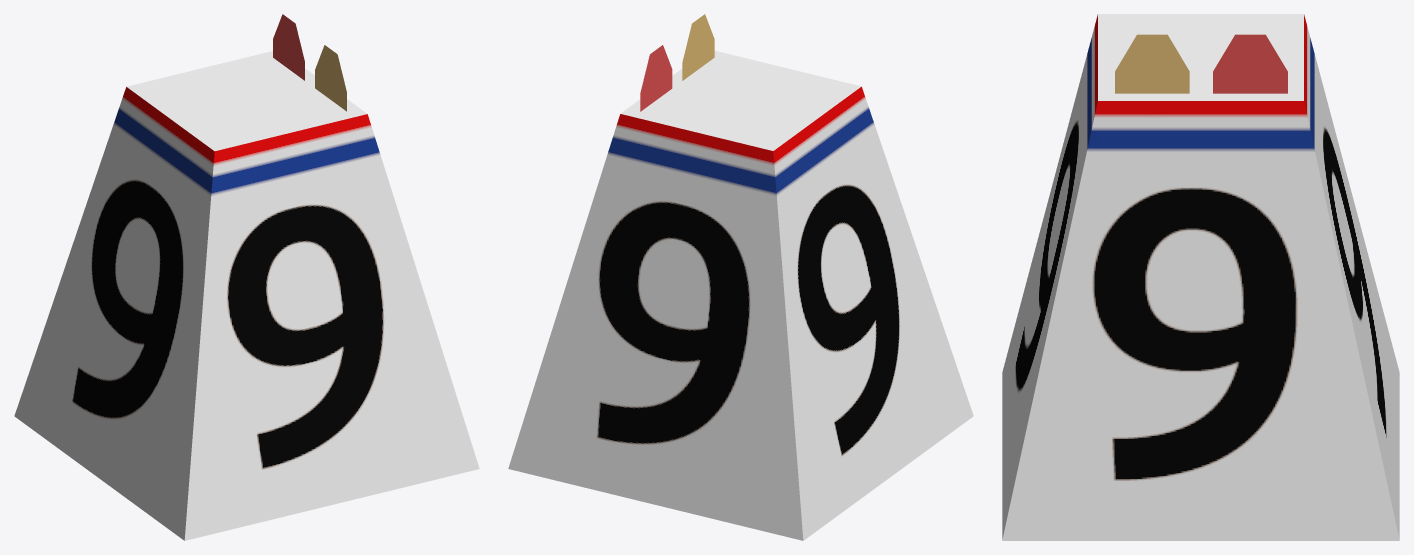
The model's file is Marker_Line9.FBX.
3 views of the same model, side by side, from view 1: azimuth 30°, elevation 25°; view 2: azimuth 150°, elevation 25°; view 3: azimuth 270°, elevation 25° (orthographic). The views are drawn at different scales.
Parts seen in each view (by area): view 1: Marker_Line9; view 2: Marker_Line9; view 3: Marker_Line9.
Part boxes in pixels (x1=…): Marker_Line9: x1=14, y1=14, x2=479, y2=540; Marker_Line9: x1=508, y1=14, x2=973, y2=540; Marker_Line9: x1=1002, y1=14, x2=1399, y2=540.
Size of the model in its own units: 6.76 by 8.6 by 6.76.
